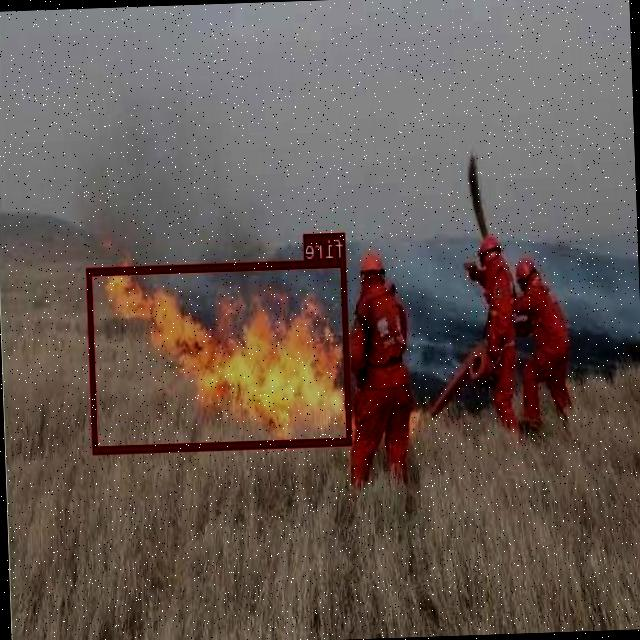fire: (86, 258, 352, 452)
